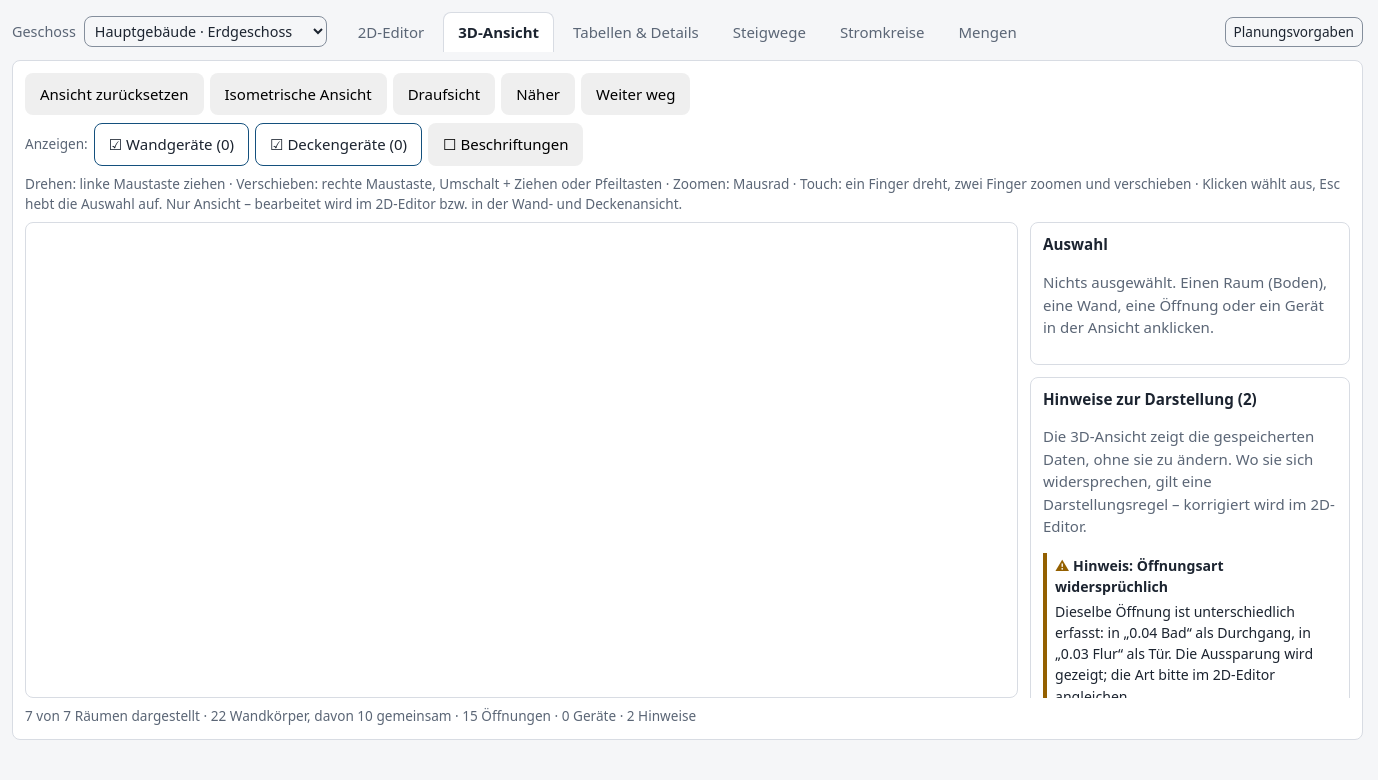
Test: Ansichtswahl › Geschosswechsel lädt die Szene für das neue Geschoss
expect the text "7 von 7 Räumen dargestellt" is shown: met, box x1=25 y1=706 x2=696 y2=725
Select "Hauptgebäude · Obergeschoss" in the dropdown labelled "Geschoss" at coordinates (205, 32), box x1=84 y1=16 x2=327 y2=47
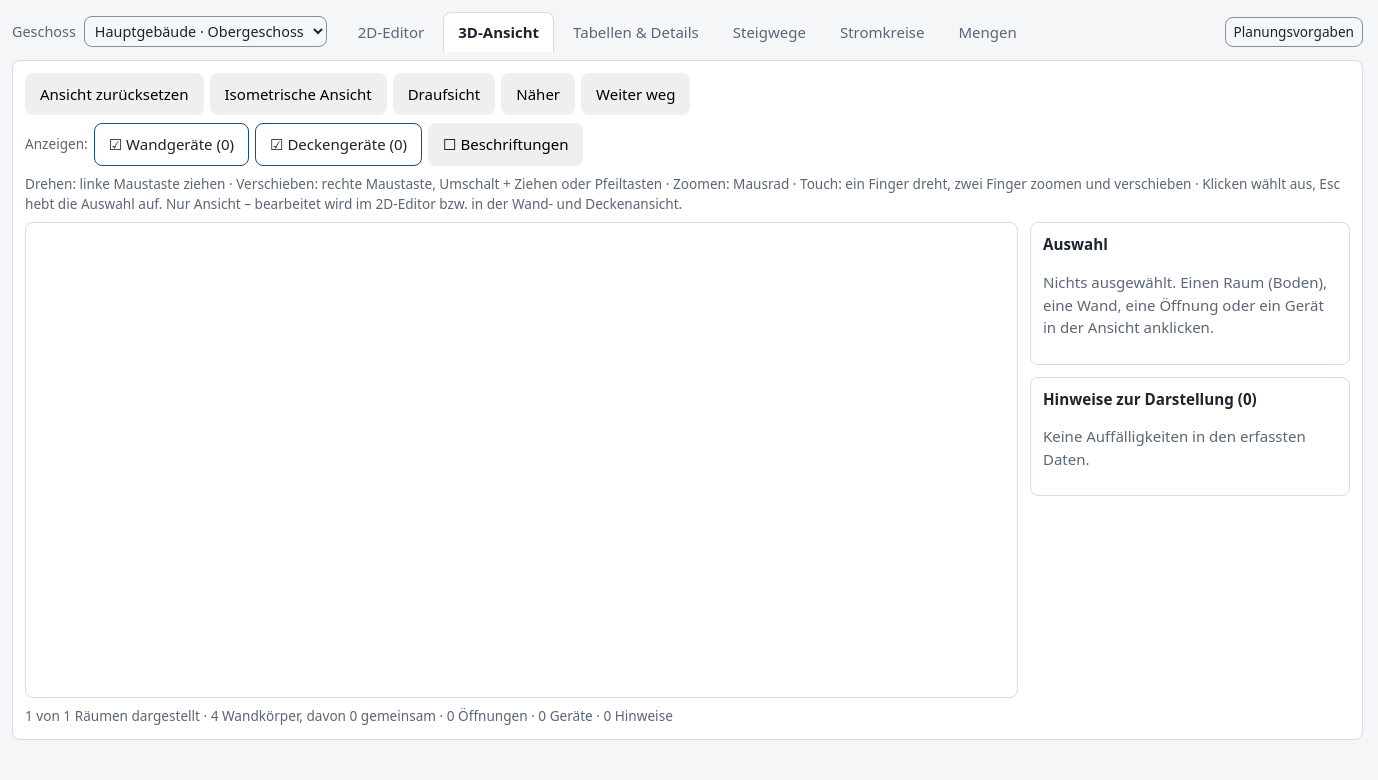
expect the number of drawings is 1: met, box x1=26 y1=223 x2=1017 y2=698
expect the text "1 von 1 Räumen dargestellt" is shown: met, box x1=25 y1=706 x2=673 y2=725
